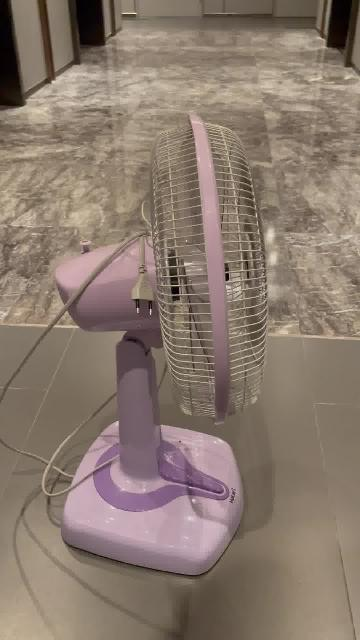Fan: (54, 115, 268, 579)
